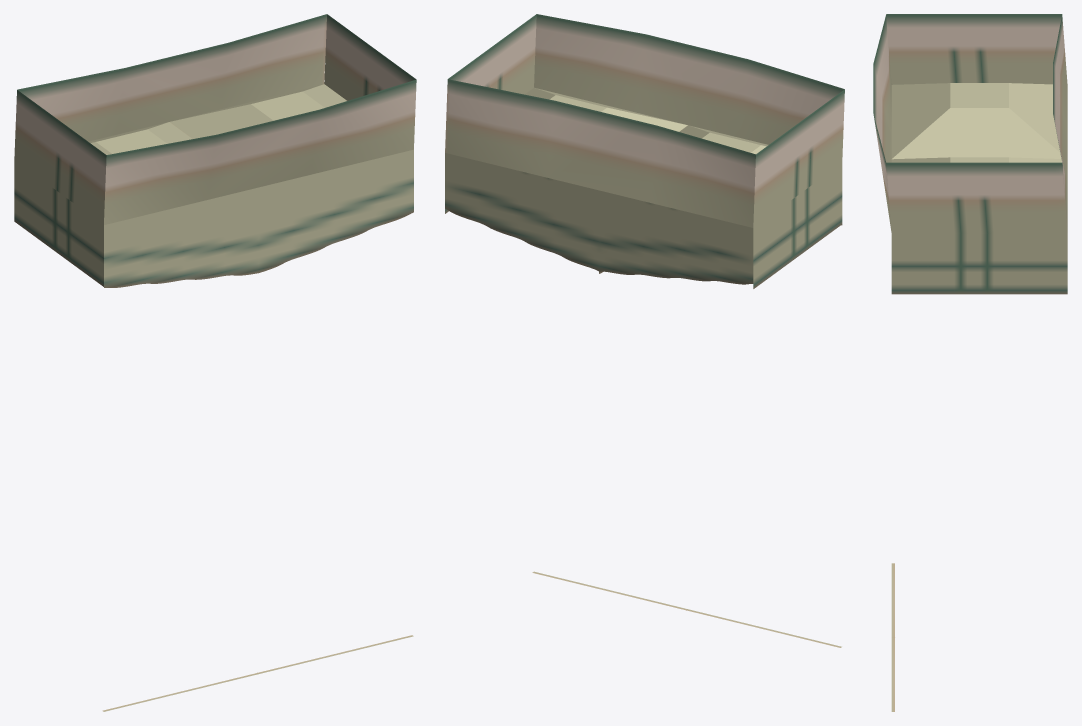
The model's file is pants.obj.
3 views of the same model, side by side, from view 1: azimuth 30°, elevation 25°; view 2: azimuth 150°, elevation 25°; view 3: azimuth 270°, elevation 25° (orthographic).
Visible parts, largest first — view 1: trousers01; view 2: trousers01; view 3: trousers01.
Part boxes in pixels (box(x1,y1,x2,y2)): trousers01: box(14, 14, 416, 711); trousers01: box(445, 14, 844, 647); trousers01: box(873, 14, 1067, 711).
Size of the model in its own units: 45.09 by 77.66 by 24.88.
Materials: 1 (1 with a texture image).
